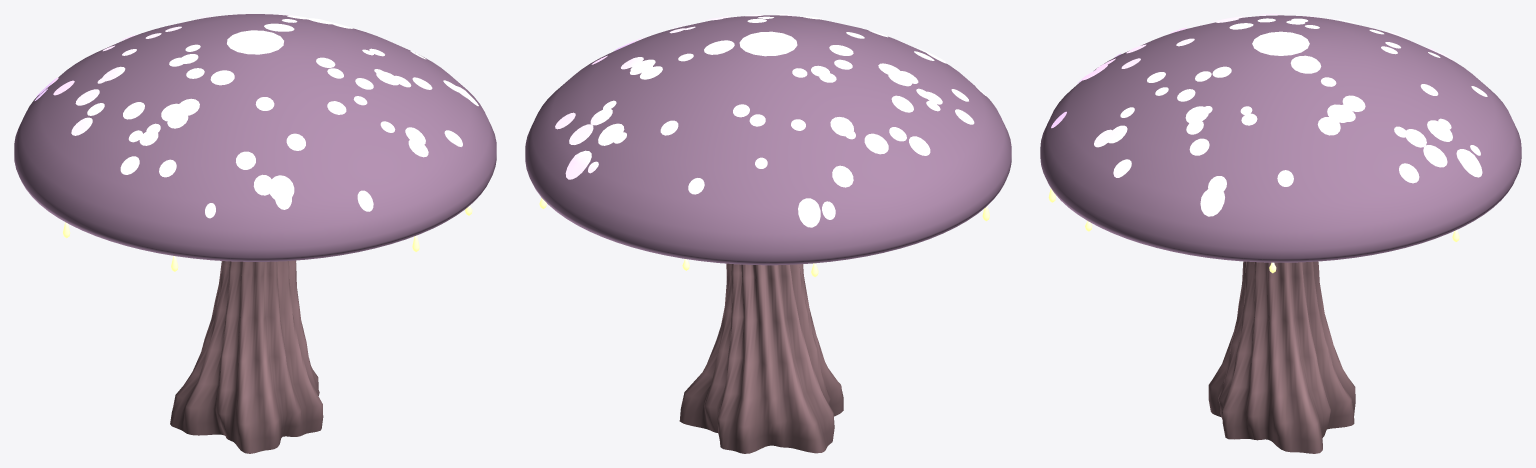
The model's file is giant2.glb.
3 renders of one model, left to right at view 1: azimuth 30°, elevation 25°; view 2: azimuth 150°, elevation 25°; view 3: azimuth 270°, elevation 25°, orthographic.
Visible parts, largest first — view 1: cap, stem, spot_nightglow; view 2: cap, stem, spot_nightglow; view 3: cap, stem, spot_nightglow.
Part boxes in pixels (x1,y1,x2,y2): cap: (14, 14, 496, 261); stem: (170, 260, 323, 453); spot_nightglow: (34, 14, 478, 218); cap: (525, 15, 1011, 265); stem: (679, 263, 843, 453); spot_nightglow: (555, 14, 985, 227); cap: (1040, 15, 1521, 262); stem: (1208, 261, 1355, 453); spot_nightglow: (1051, 14, 1487, 216).
Bounding box in the file's own units: 14 × 12.16 × 14.
